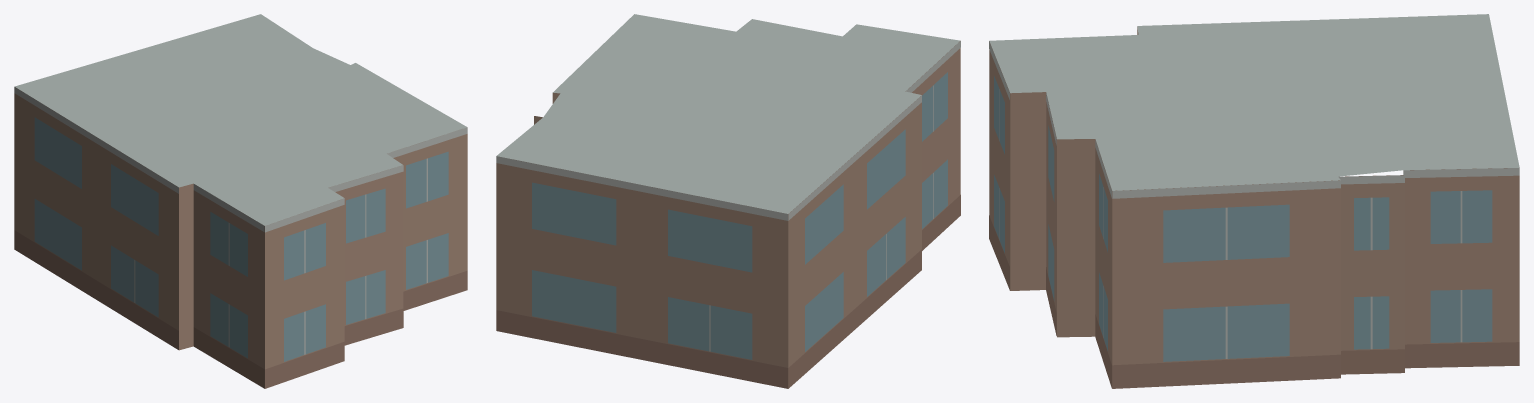
Rendered from survey-upis-32547129.glb.
3 renders of one model, left to right at view 1: azimuth 30°, elevation 25°; view 2: azimuth 150°, elevation 25°; view 3: azimuth 270°, elevation 25°, orthographic. The views are drawn at different scales.
Visible parts, largest first — view 1: survey-upis-32547129.tmp; view 2: survey-upis-32547129.tmp; view 3: survey-upis-32547129.tmp.
Part boxes in pixels (x1,y1,x2,y2): survey-upis-32547129.tmp: (14, 14, 467, 388); survey-upis-32547129.tmp: (496, 14, 960, 388); survey-upis-32547129.tmp: (989, 14, 1519, 388).
Size of the model in its own units: 11.7 by 6.1 by 14.83.
